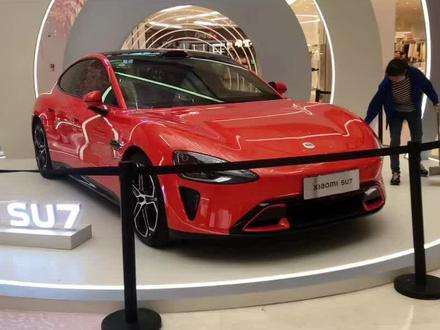su7: (28, 45, 387, 243)
